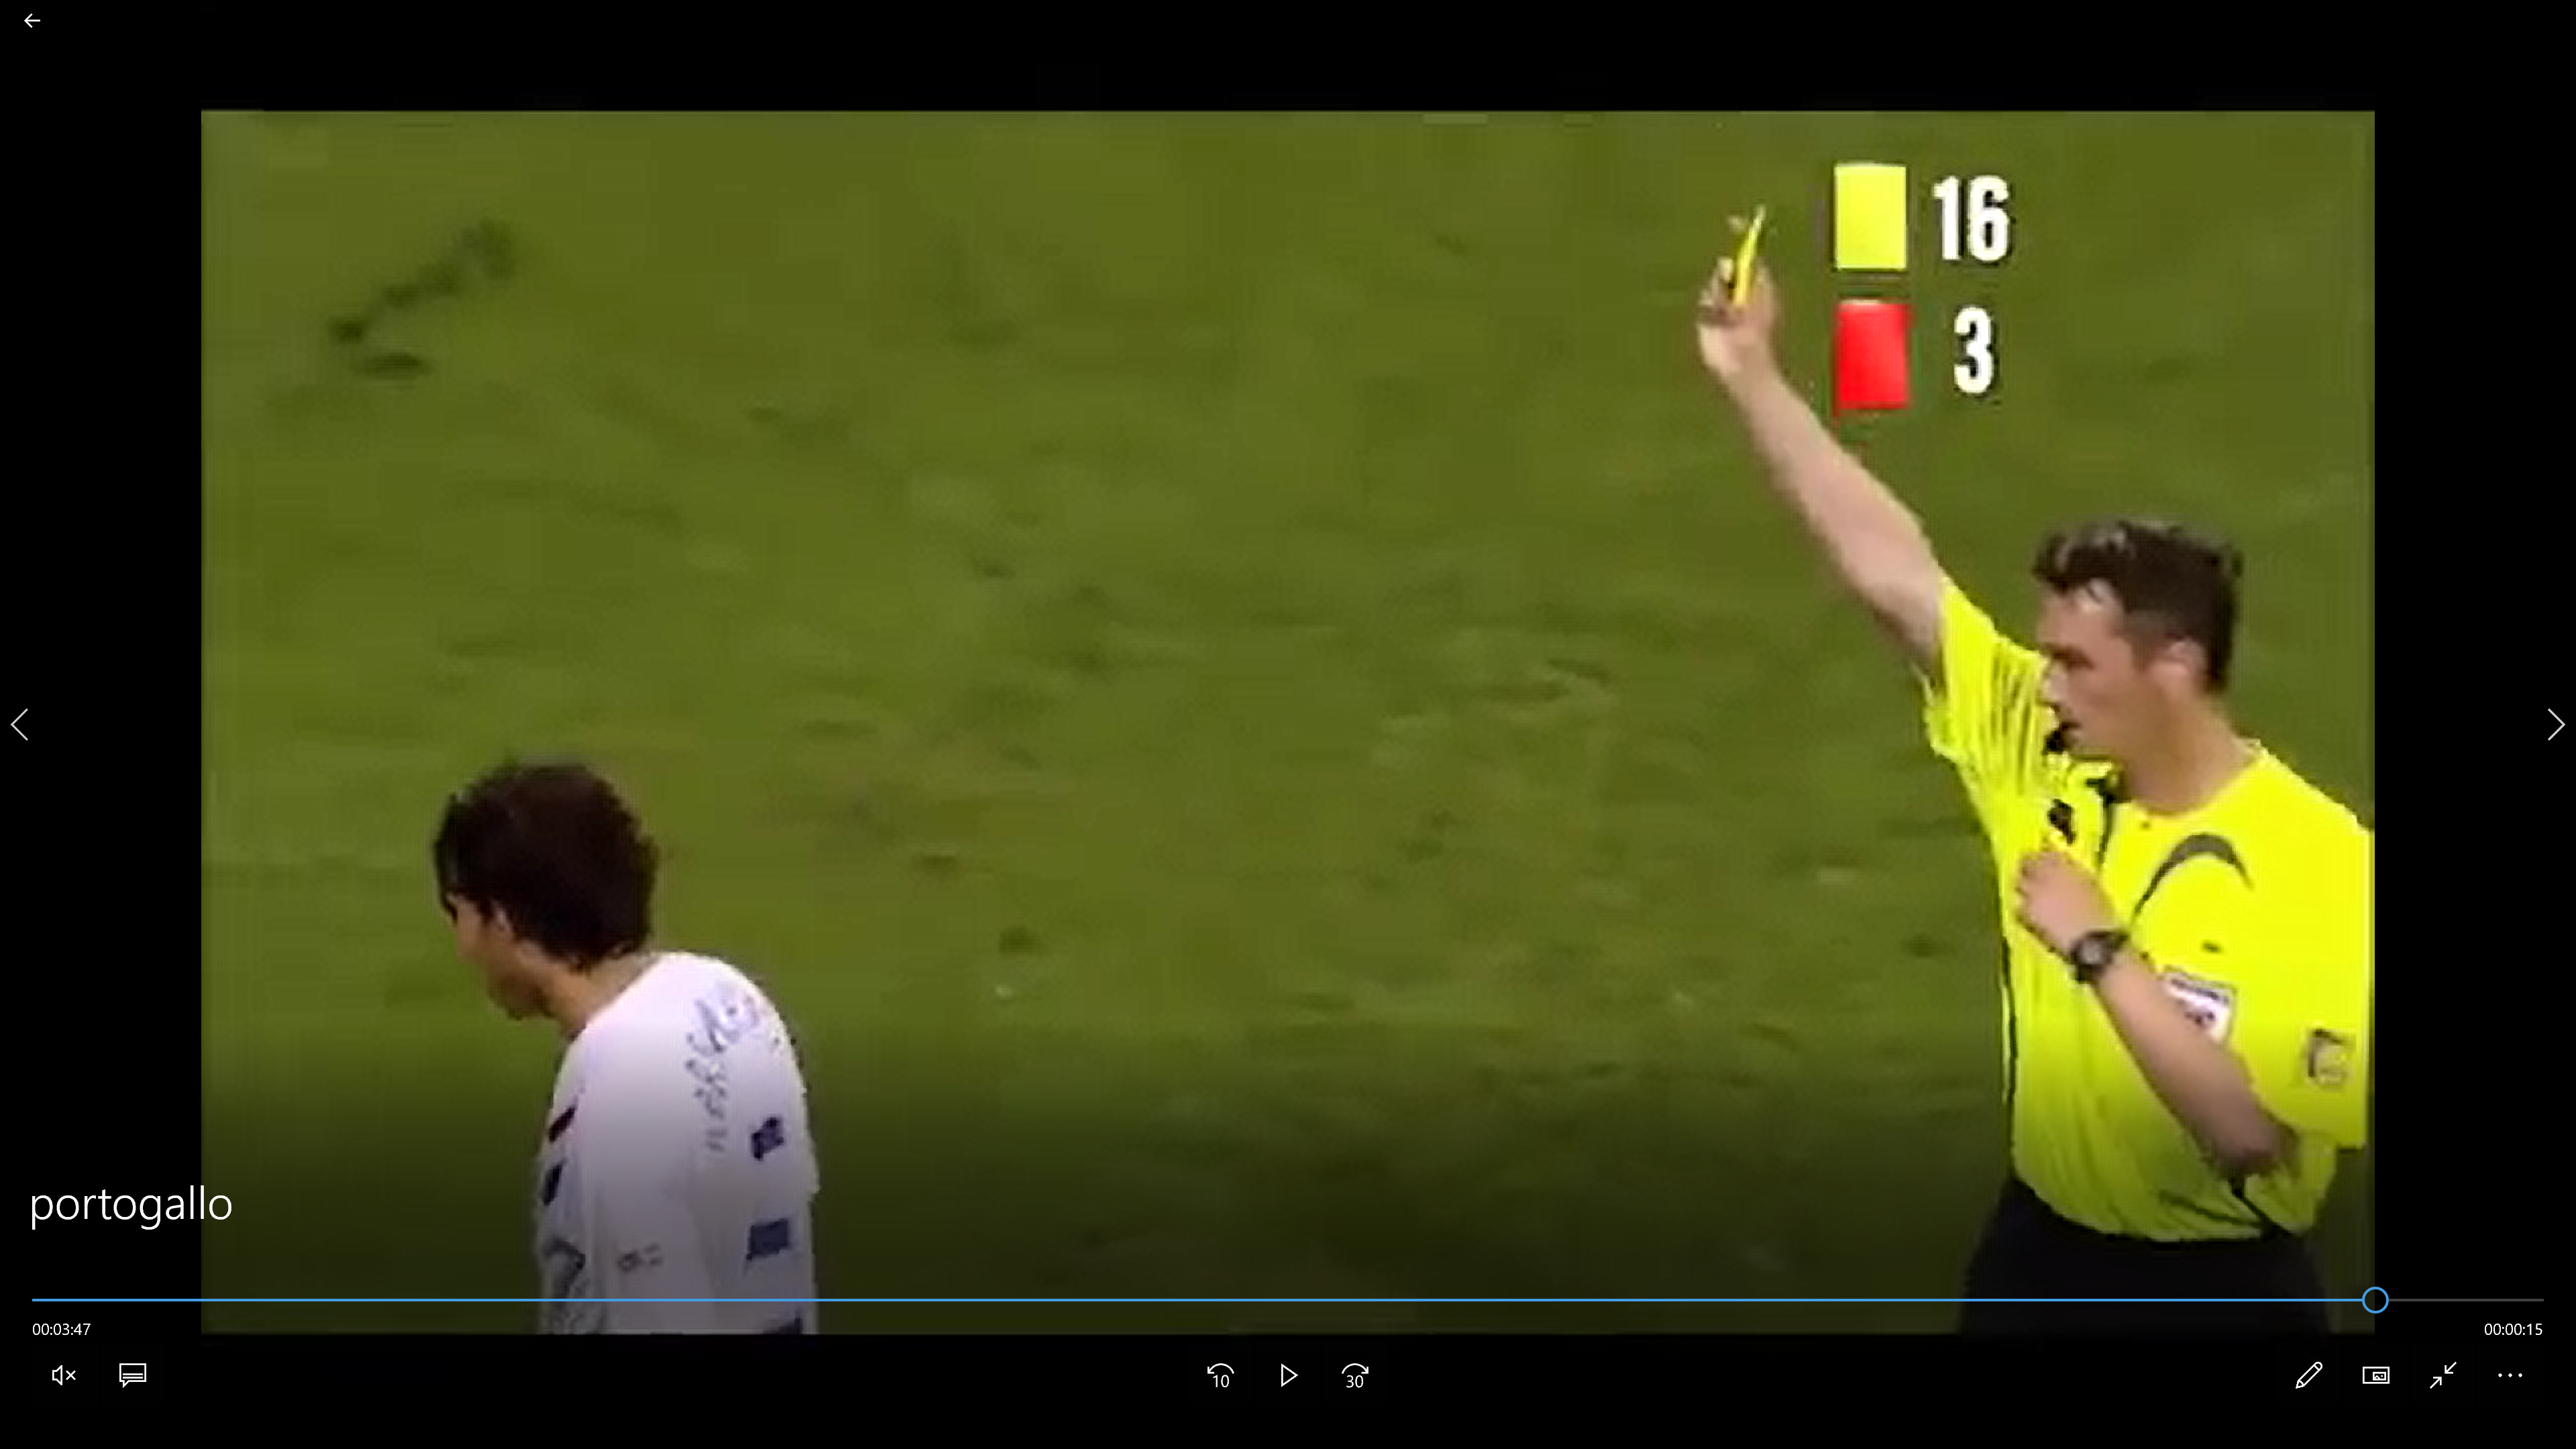yellow_card: (1674, 189, 1798, 405)
